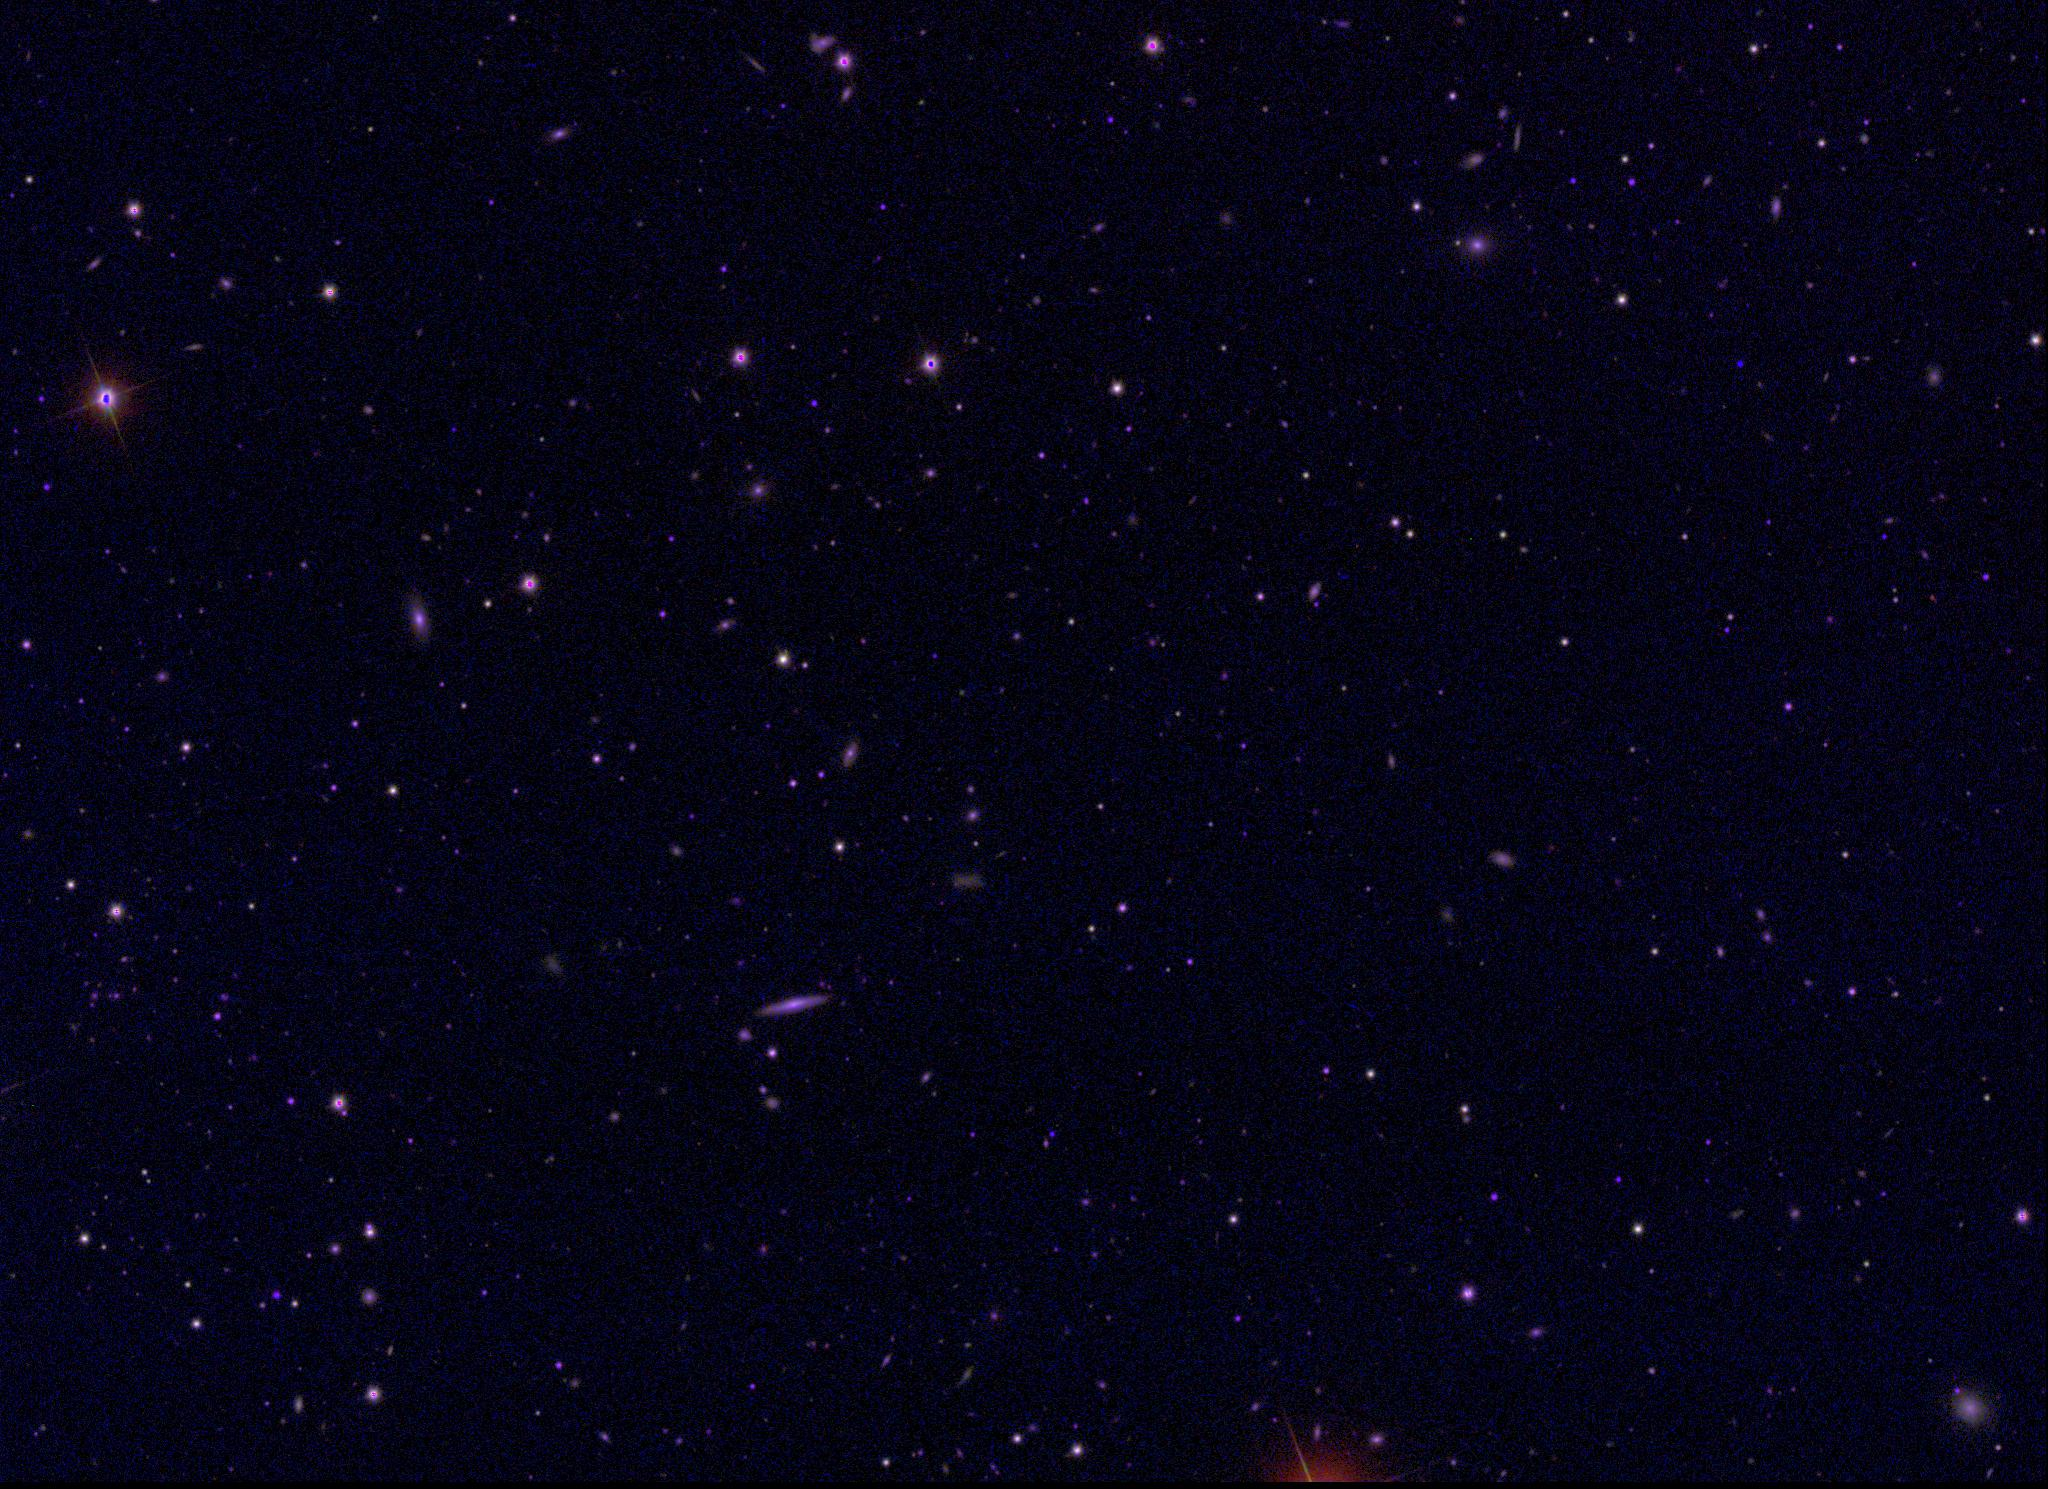L: (1730, 356, 1744, 371)
